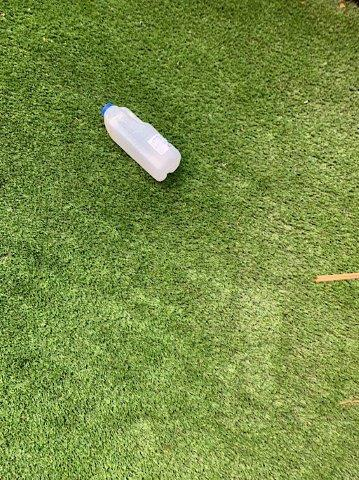botolplastik: (103, 103, 180, 181)
